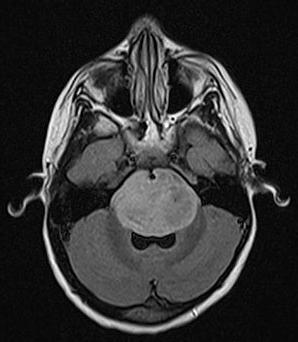Tumour-Meningioma: (104, 156, 206, 261)
